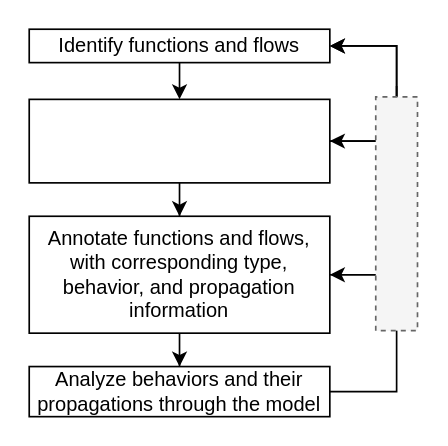
This 448x446 diagram has some shape labels left out. The shapes that lost their labels are listed below. From the top down, each one's box as (x1, y1, x2, y2) in pixels, then its label:
(28, 98, 330, 183): Connect functions and flows with connection, activation, and propagation arrows
(374, 95, 418, 331): Model Refinement
